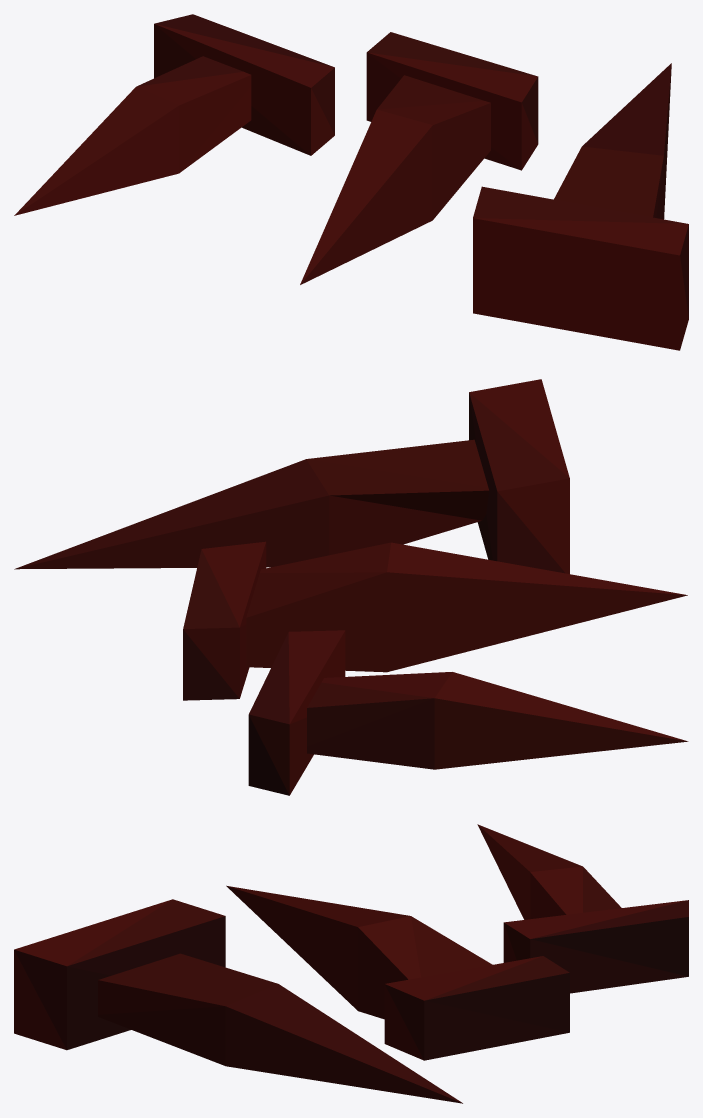
The model's file is dragon.obj.
The picture shows the model from 3 angles, top to bottom: view 1: azimuth 30°, elevation 25°; view 2: azimuth 150°, elevation 25°; view 3: azimuth 270°, elevation 25°; orthographic projection. The views are drawn at different scales.
Visible parts, largest first — view 1: Item Dragon nails 2026-10-08_15-41-45; view 2: Item Dragon nails 2026-10-08_15-41-45; view 3: Item Dragon nails 2026-10-08_15-41-45.
Part boxes in pixels (x1,y1,x2,y2): Item Dragon nails 2026-10-08_15-41-45: (14,14,688,350); Item Dragon nails 2026-10-08_15-41-45: (14,379,688,795); Item Dragon nails 2026-10-08_15-41-45: (14,824,688,1103).
Size of the model in its own units: 50 by 7 by 51.
